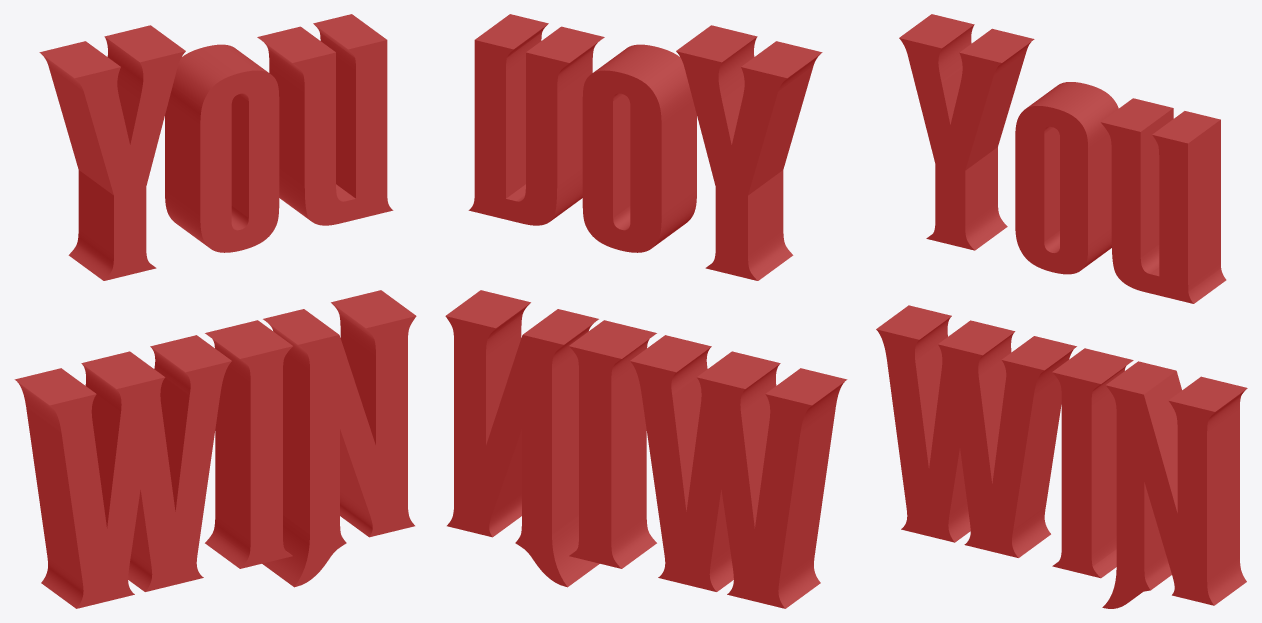
The model's file is you_win.FBX.
3 views of the same model, side by side, from view 1: azimuth 30°, elevation 25°; view 2: azimuth 150°, elevation 25°; view 3: azimuth 330°, elevation 25° (orthographic). The views are drawn at different scales.
Parts seen in each view (by area): view 1: Text001; view 2: Text001; view 3: Text001.
Part boxes in pixels (x1,y1,x2,y2): Text001: (14,14,416,608); Text001: (445,14,847,608); Text001: (876,14,1247,608).
Bounding box in the file's own units: 120 × 175 × 20.
